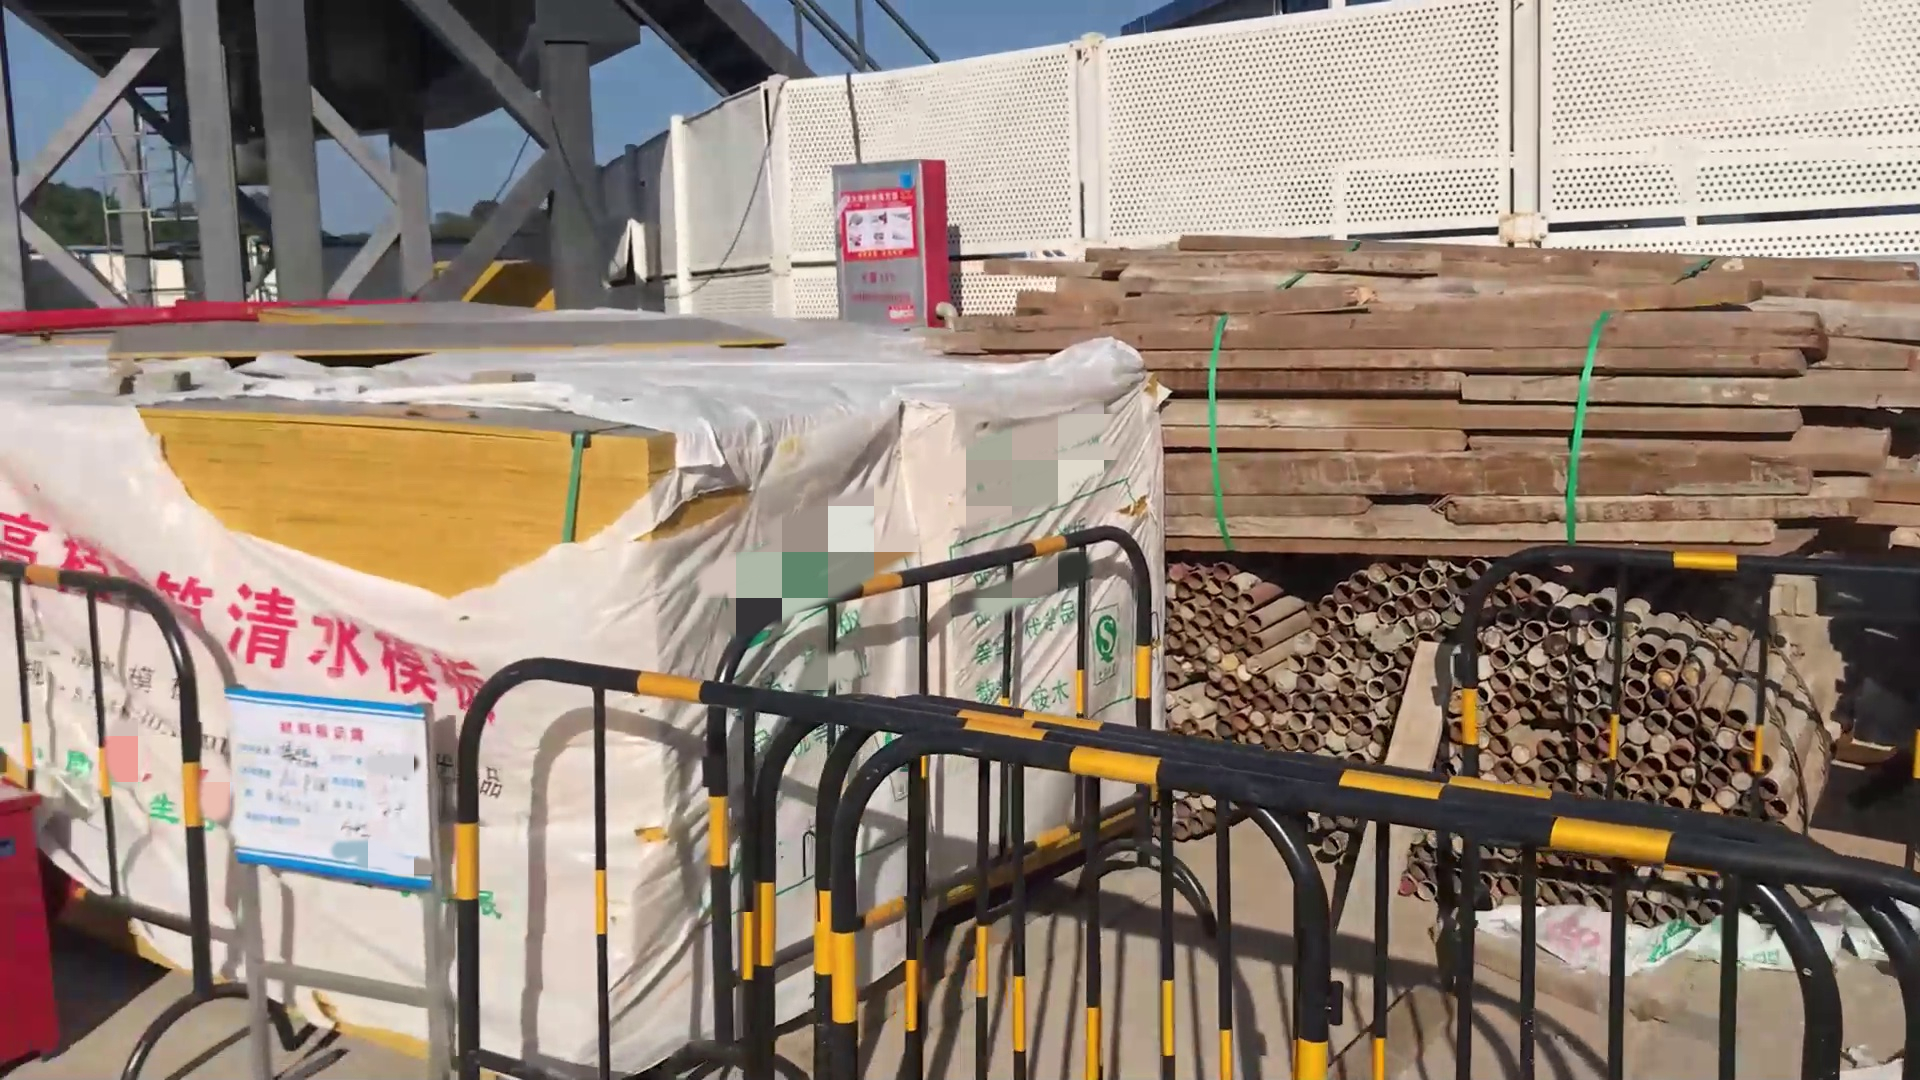fence: (456, 673, 1892, 1068), (727, 676, 1855, 1080), (4, 554, 235, 1058)
rebar: (1183, 558, 1832, 816)
wood: (1036, 251, 1920, 539), (150, 400, 654, 593)
